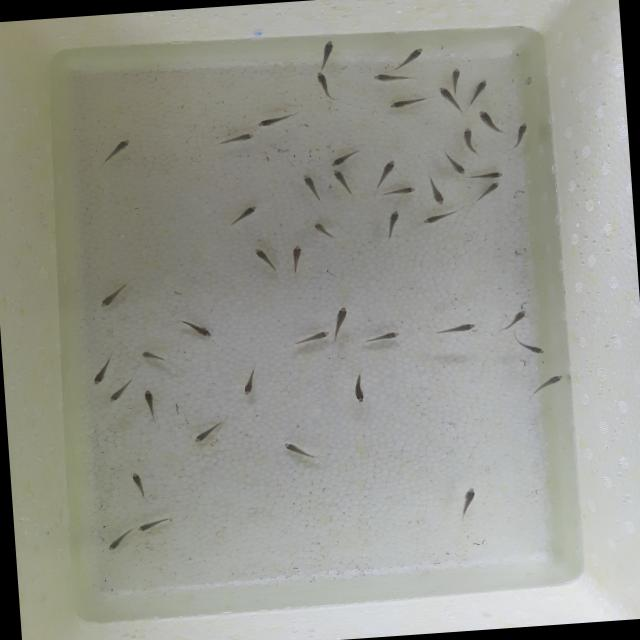fingerling: (189, 416, 234, 446), (506, 331, 549, 359), (225, 202, 269, 228), (457, 482, 486, 520), (494, 304, 532, 332), (526, 372, 568, 397), (354, 328, 409, 347), (90, 351, 119, 387), (95, 280, 127, 312), (105, 520, 135, 554), (366, 160, 402, 188), (275, 440, 321, 460), (420, 206, 460, 228), (431, 319, 482, 336), (287, 329, 331, 348), (186, 317, 218, 343), (248, 242, 274, 274), (284, 242, 308, 276), (136, 513, 174, 534), (124, 467, 148, 500), (106, 134, 134, 162), (330, 304, 354, 336), (315, 38, 338, 70), (348, 370, 369, 405), (468, 72, 494, 100), (238, 366, 260, 398), (477, 180, 509, 202), (106, 378, 131, 406), (388, 94, 426, 112), (384, 207, 406, 238), (330, 166, 352, 196), (299, 171, 321, 201), (426, 180, 448, 208), (140, 387, 158, 421), (222, 130, 260, 146), (456, 128, 477, 156), (308, 219, 334, 241), (140, 348, 168, 368), (477, 106, 498, 132), (313, 72, 334, 98), (328, 150, 360, 167), (436, 157, 466, 175), (256, 114, 293, 128), (511, 122, 533, 145), (398, 46, 426, 64), (373, 188, 420, 198), (374, 72, 408, 84), (466, 172, 506, 181), (436, 85, 454, 104), (448, 64, 462, 84)
